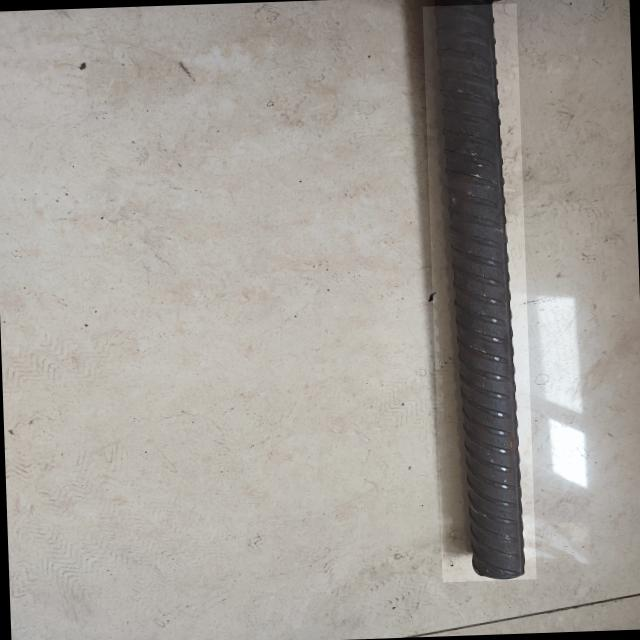ribbed bar: (422, 3, 536, 582)
